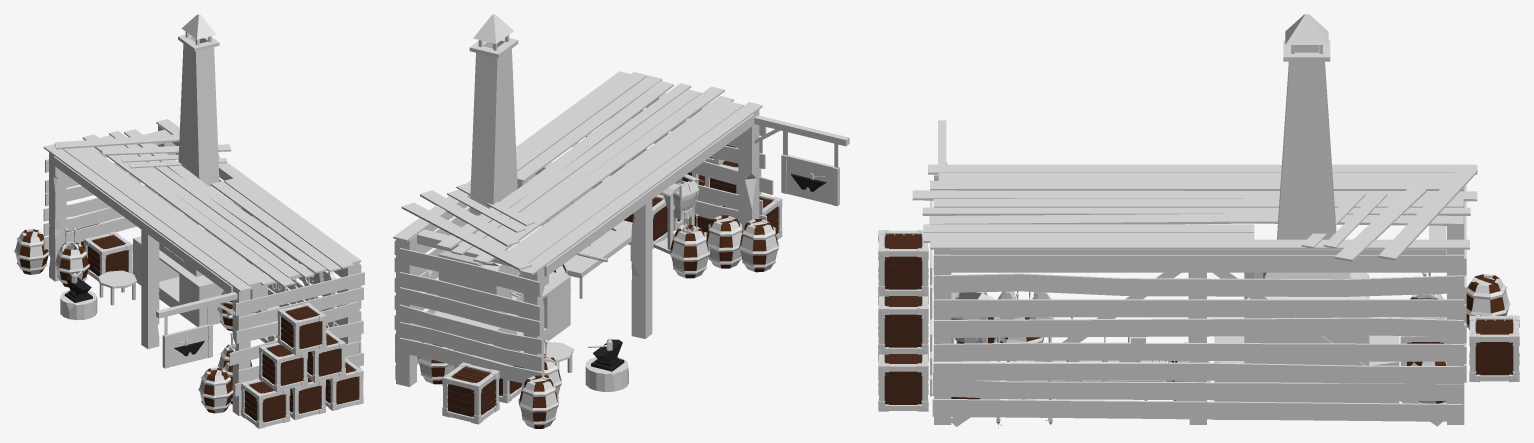
The model's file is Low Poly Blacksmith.fbx.
The picture shows the model from 3 angles, left to right: view 1: azimuth 30°, elevation 25°; view 2: azimuth 150°, elevation 25°; view 3: azimuth 270°, elevation 25°; orthographic projection. The views are drawn at different scales.
Parts seen in each view (by area): view 1: Cubo.004, Cubo.001, Cubo.005, Cube.024, Cube.010, Cube.023, Cube.004, Cube, Cube.022, Cube.021, Cube.005, Cube.008 (+3 smaller); view 2: Cubo.004, Cubo.001, Cubo.005, Cube.011, Cube, Cube.008, Cube.005, Cube.019, Cube.003, Plano.003, Cube.001, Cube.007 (+4 smaller); view 3: Cubo.004, Cubo.001, Cube.011, Cube.024, Cube.022, Cube.021, Cube.008, Plano.003.
Part boxes in pixels (<box>): Cubo.004: <box>43,119,364,415</box>; Cubo.001: <box>133,14,279,343</box>; Cubo.005: <box>156,292,237,368</box>; Cube.024: <box>277,302,326,355</box>; Cube.010: <box>241,379,290,428</box>; Cube.023: <box>259,342,307,392</box>; Cube.004: <box>84,231,132,282</box>; Cube: <box>60,275,204,356</box>; Cube.022: <box>307,330,345,382</box>; Cube.021: <box>325,358,363,410</box>; Cube.005: <box>198,367,233,413</box>; Cube.008: <box>14,228,48,274</box>; Cubo.004: <box>393,71,773,386</box>; Cubo.001: <box>435,14,632,368</box>; Cubo.005: <box>754,115,849,206</box>; Cube.011: <box>442,362,499,424</box>; Cube: <box>585,173,826,391</box>; Cube.008: <box>518,375,559,428</box>; Cube.005: <box>739,218,779,272</box>; Cube.019: <box>669,225,710,278</box>; Cube.003: <box>706,215,742,268</box>; Plano.003: <box>653,174,704,254</box>; Cube.001: <box>624,194,667,248</box>; Cube.007: <box>417,341,455,384</box>; Cubo.004: <box>912,164,1477,426</box>; Cubo.001: <box>1009,14,1399,419</box>; Cube.011: <box>1469,315,1519,382</box>; Cube.024: <box>878,230,928,296</box>; Cube.022: <box>878,296,928,354</box>; Cube.021: <box>878,353,928,411</box>; Cube.008: <box>1466,274,1510,330</box>; Plano.003: <box>951,292,994,343</box>.
Bounding box in the file's own units: 1435 × 1773 × 2610.
